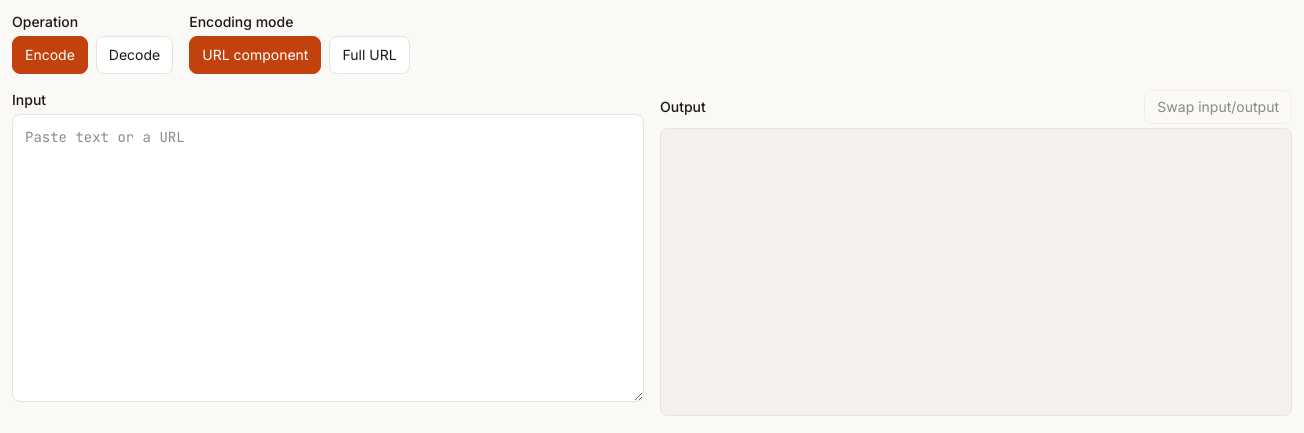
Test case: UrlEncoderDecoder › shows an error instead of throwing for malformed percent sequences
The width and height of the screenshot is (1304, 433).
Step 1. Click the button "Decode" → (134, 55), box x1=96 y1=36 x2=173 y2=74
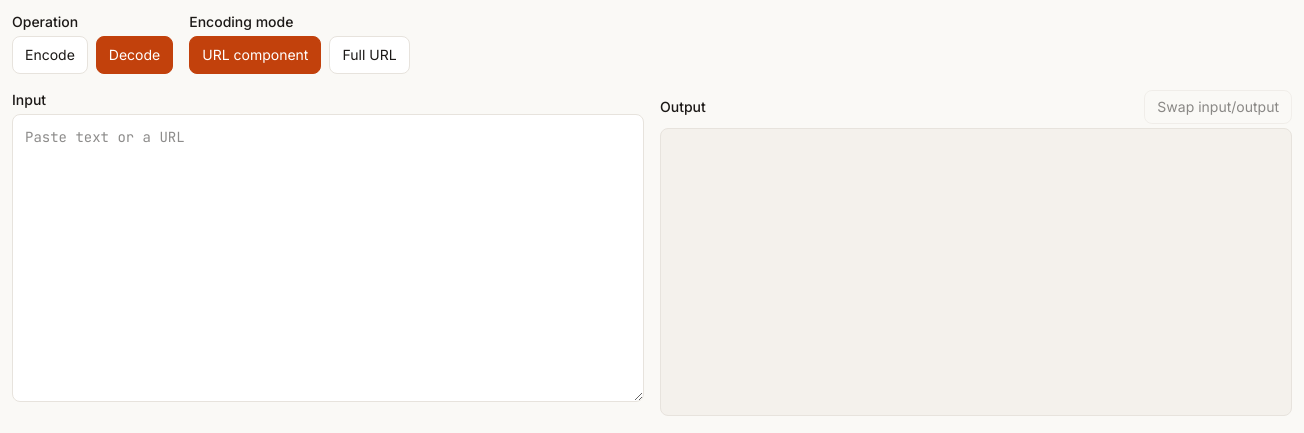
Step 2. Type "%E0%A4%A" into the text box labelled "Input" → (328, 258), box x1=12 y1=114 x2=644 y2=402
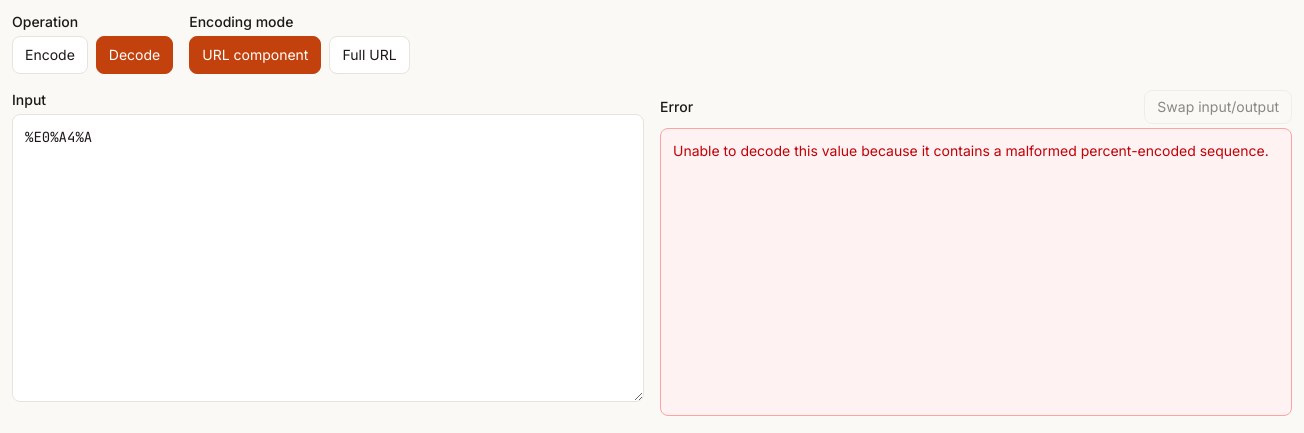
expect the message shows "malformed percent-encoded sequence": met, box x1=673 y1=142 x2=1269 y2=159
expect the text "Error" is shown: met, box x1=660 y1=97 x2=693 y2=117
